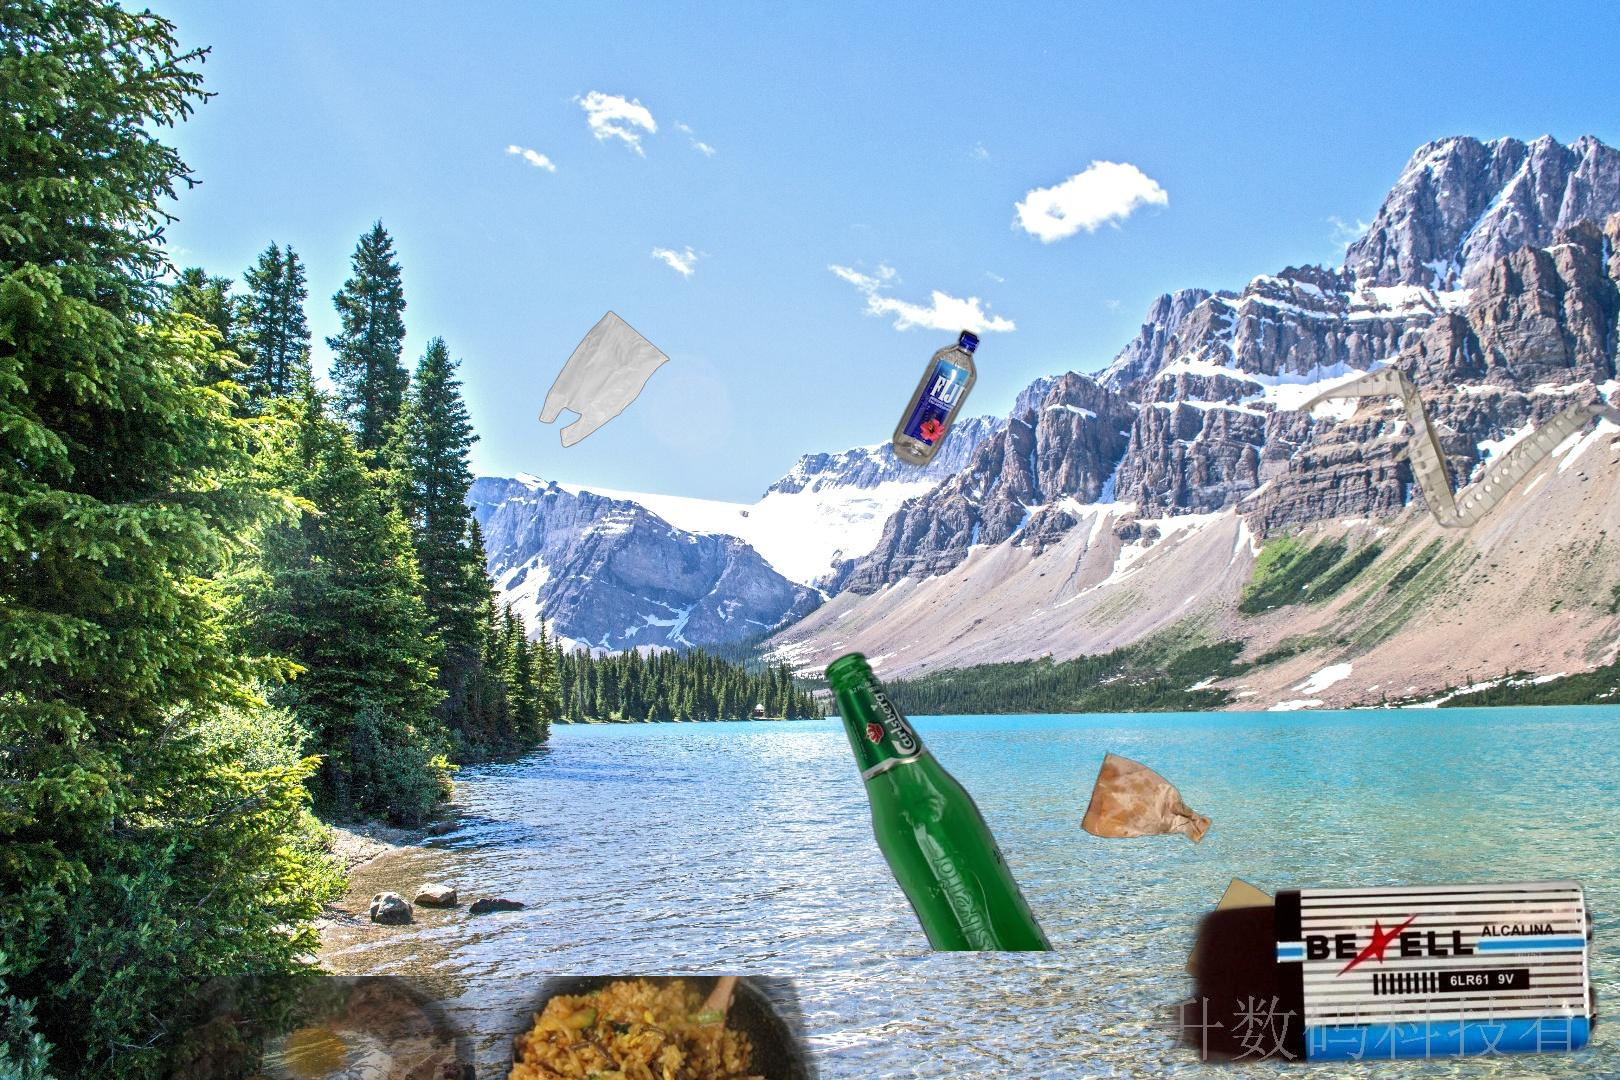battery: (1140, 873, 1607, 1073)
biological: (130, 976, 820, 1080)
glass: (821, 648, 1058, 951)
paper: (1296, 364, 1620, 532)
paper-bag: (1078, 747, 1296, 1003)
plastic-bag: (536, 309, 673, 450)
plastic-bottles: (888, 323, 985, 475)
